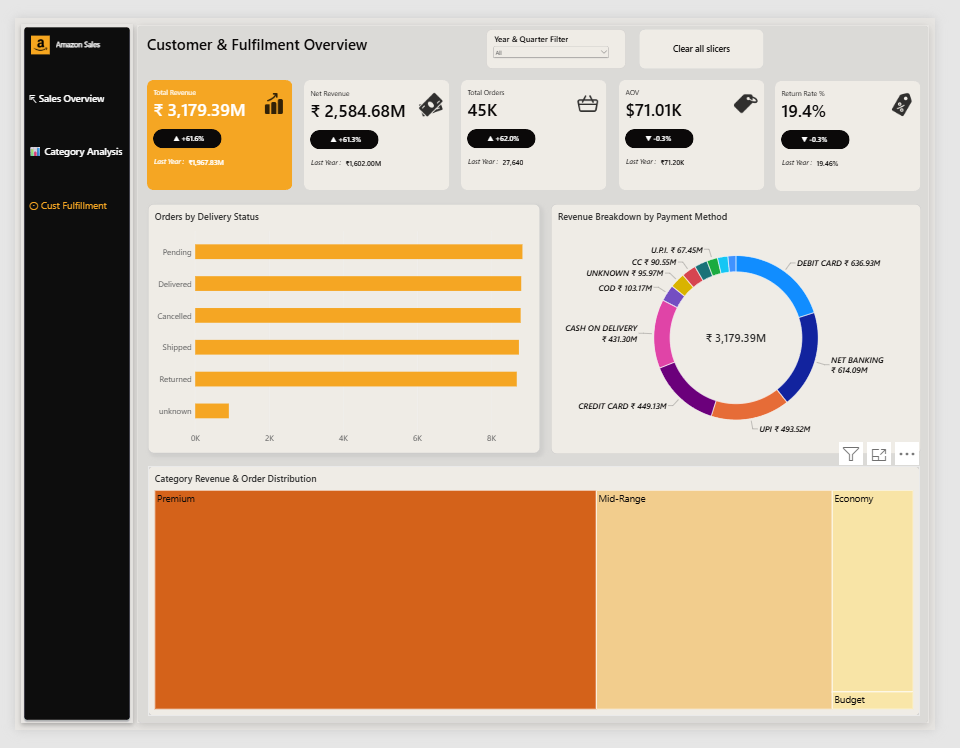

What the dashboard file says about the page in this screenshot:
{"tool":"powerbi","page":{"name":"⊙ Cust Fulfillment","canvas":[2300,1780],"ordinal":2},"visuals":[{"type":"shape","box":[15,15,280,1747.5],"z":0},{"type":"shape","box":[724,155.4,363.3,275.3],"z":0,"group":"g2"},{"type":"shape","box":[1510.1,155.4,363.3,275],"z":0,"group":"g9"},{"type":"group","id":"g1","title":"Group 2","box":[330.9,155.5,363.3,275],"z":0,"group":"g16"},{"type":"shape","box":[330.9,155.5,363.3,275],"z":0,"group":"g1"},{"type":"shape","box":[1117.1,156.2,363.3,275],"z":0,"group":"g3"},{"type":"shape","box":[1901.9,157,363.3,275],"z":0,"group":"g15"},{"type":"shape","box":[1525.5,275.7,171.7,48.3],"z":0,"group":"g4"},{"type":"shape","box":[346.3,275.8,171.7,48.3],"z":0,"group":"g5"},{"type":"shape","box":[1132.5,276.5,171.7,48.3],"z":0,"group":"g6"},{"type":"shape","box":[1917.3,277.3,171.7,48.3],"z":0,"group":"g7"},{"type":"shape","box":[739.4,279,171.7,48.3],"z":0,"group":"g8"},{"type":"shape","box":[1526.4,341.4,163,37],"z":0,"group":"g10"},{"type":"shape","box":[347.2,341.5,163,37],"z":0,"group":"g11"},{"type":"shape","box":[1133.4,342.2,163,37],"z":0,"group":"g12"},{"type":"shape","box":[1918.2,343,163,37],"z":0,"group":"g13"},{"type":"shape","box":[740.3,344.7,163,37],"z":0,"group":"g14"},{"type":"image","box":[40,40,46.7,55],"z":1000},{"type":"group","id":"g2","title":"Group 2","box":[724,155.4,363.3,275.3],"z":1000,"group":"g16"},{"type":"cardVisual","fields":{"Data":["Key_Measures.AOV"]},"box":[1510.1,155.4,363.3,120],"z":1000,"group":"g9"},{"type":"cardVisual","fields":{"Data":["Key_Measures.Total Revenue"]},"box":[330.9,155.5,363.3,120],"z":1000,"group":"g1"},{"type":"cardVisual","fields":{"Data":["Key_Measures.Total Orders"]},"box":[1117.1,156.2,363.3,120],"z":1000,"group":"g3"},{"type":"cardVisual","fields":{"Data":["Key_Measures.Return Rate %"]},"box":[1901.9,157,363.3,120],"z":1000,"group":"g15"},{"type":"cardVisual","fields":{"Data":["Key_Measures.Net Revenue"]},"box":[724,158.7,363.3,120],"z":1000,"group":"g2"},{"type":"cardVisual","fields":{"Data":["Key_Measures.AOV YoY % Label"]},"box":[1559.3,274.5,138.3,48.3],"z":1000,"group":"g4"},{"type":"cardVisual","fields":{"Data":["Key_Measures.Sales YoY % Label"]},"box":[380.1,274.6,138.3,48.3],"z":1000,"group":"g5"},{"type":"cardVisual","fields":{"Data":["Key_Measures.Orders YoY % Label"]},"box":[1166.3,275.3,138.3,48.3],"z":1000,"group":"g6"},{"type":"cardVisual","fields":{"Data":["Key_Measures.Return Rate YoY % Label"]},"box":[1951.1,276.1,138.3,48.3],"z":1000,"group":"g7"},{"type":"cardVisual","fields":{"Data":["Key_Measures.Net Revenue YoY % Label"]},"box":[773.2,277.8,138.3,48.3],"z":1000,"group":"g8"},{"type":"cardVisual","fields":{"Data":["Key_Measures.AOV PY Clean"]},"box":[1597.2,335.4,216.7,48.3],"z":1000,"group":"g10"},{"type":"cardVisual","fields":{"Data":["Key_Measures.Last Year Label"]},"box":[418,335.5,216.7,48.3],"z":1000,"group":"g11"},{"type":"cardVisual","fields":{"Data":["Key_Measures.Orders PY Clean"]},"box":[1204.2,336.2,216.7,48.3],"z":1000,"group":"g12"},{"type":"cardVisual","fields":{"Data":["Key_Measures.Return Rate PY Clean"]},"box":[1989,337,216.7,48.3],"z":1000,"group":"g13"},{"type":"cardVisual","fields":{"Data":["Key_Measures.Net Revenue PY Clean"]},"box":[811.1,338.7,216.7,48.3],"z":1000,"group":"g14"},{"type":"textbox","box":[101.4,52.8,180,51.7],"z":2000},{"type":"group","id":"g3","title":"Group 2","box":[1117.1,156.2,363.3,275],"z":2000,"group":"g16"},{"type":"group","id":"g4","title":"YOY_Label","box":[1525.5,274.5,172.1,49.6],"z":2000,"group":"g9"},{"type":"group","id":"g5","title":"YOY_Label","box":[346.3,274.6,172.1,49.6],"z":2000,"group":"g1"},{"type":"group","id":"g6","title":"YOY_Label","box":[1132.5,275.3,172.1,49.6],"z":2000,"group":"g3"},{"type":"group","id":"g7","title":"YOY_Label","box":[1917.3,276.1,172.1,49.6],"z":2000,"group":"g15"},{"type":"group","id":"g8","title":"YOY_Label","box":[739.4,277.8,172.1,49.6],"z":2000,"group":"g2"},{"type":"shape","box":[305,17.5,1980,1745],"z":3000},{"type":"group","id":"g9","title":"Group 2","box":[1510.1,155.4,362,276],"z":3000,"group":"g16"},{"type":"group","id":"g10","title":"LY_label","box":[1526.4,335.4,287.4,48.3],"z":3000,"group":"g9"},{"type":"group","id":"g11","title":"LY_label","box":[347.2,335.5,287.4,48.3],"z":3000,"group":"g1"},{"type":"group","id":"g12","title":"LY_label","box":[1133.4,336.2,287.4,48.3],"z":3000,"group":"g3"},{"type":"group","id":"g13","title":"LY_label","box":[1918.2,337,287.4,48.3],"z":3000,"group":"g15"},{"type":"group","id":"g14","title":"LY_label","box":[740.3,338.7,287.4,48.3],"z":3000,"group":"g2"},{"type":"textbox","box":[330,40,1070,62.5],"z":4000},{"type":"group","id":"g15","title":"Group 2","box":[1901.9,157,362,276],"z":4000,"group":"g16"},{"type":"group","id":"g16","title":"KPI_Cards","box":[330.9,155.4,1933,277.6],"z":5000},{"type":"clusteredBarChart","title":"Orders by Delivery Status","fields":{"Category":["fact_amazon_sales.delivery_status"],"Y":["Key_Measures.Total Orders"]},"box":[332.5,465,980,622.5],"z":6000},{"type":"group","id":"g17","title":"Year_Filter","box":[1177.1,28.6,350,307.1],"z":7000},{"type":"shape","box":[1177.1,28.6,350,100],"z":8000,"group":"g17"},{"type":"donutChart","title":"Revenue Breakdown by Payment Method","fields":{"Category":["fact_amazon_sales.payment_method"],"Y":["Key_Measures.Total Revenue"]},"box":[1340,465,925,625],"z":8000},{"type":"slicer","fields":{"Values":["dim_date.order_year","dim_date.quarter_of_year"]},"box":[1189.6,37.8,300,300],"z":8500,"group":"g17"},{"type":"treemap","title":"Category Revenue & Order Distribution","fields":{"Group":["fact_amazon_sales.price_category"],"Values":["Key_Measures.Total Orders"]},"box":[332.5,1120,1930,625],"z":10000},{"type":"actionButton","box":[1560,27.5,312,100],"z":11000},{"type":"pageNavigator","box":[22.5,137.5,340,395],"z":11001}]}

Visuals, with their boxes on the page's 2300x1780 design canvas (x1, y1, x2, y2). These are canvas units, not pixel positions in the 960x748 screenshot, which may show the page scaled, cropped or inside an application window:
shape: locate(15, 15, 295, 1762)
shape: locate(724, 155, 1087, 431)
shape: locate(1510, 155, 1873, 430)
"Group 2" group: locate(331, 156, 694, 430)
shape: locate(331, 156, 694, 430)
shape: locate(1117, 156, 1480, 431)
shape: locate(1902, 157, 2265, 432)
shape: locate(1526, 276, 1697, 324)
shape: locate(346, 276, 518, 324)
shape: locate(1132, 276, 1304, 325)
shape: locate(1917, 277, 2089, 326)
shape: locate(739, 279, 911, 327)
shape: locate(1526, 341, 1689, 378)
shape: locate(347, 342, 510, 378)
shape: locate(1133, 342, 1296, 379)
shape: locate(1918, 343, 2081, 380)
shape: locate(740, 345, 903, 382)
image: locate(40, 40, 87, 95)
"Group 2" group: locate(724, 155, 1087, 431)
cardVisual - Key_Measures.AOV: locate(1510, 155, 1873, 275)
cardVisual - Key_Measures.Total Revenue: locate(331, 156, 694, 276)
cardVisual - Key_Measures.Total Orders: locate(1117, 156, 1480, 276)
cardVisual - Key_Measures.Return Rate %: locate(1902, 157, 2265, 277)
cardVisual - Key_Measures.Net Revenue: locate(724, 159, 1087, 279)
cardVisual - Key_Measures.AOV YoY % Label: locate(1559, 274, 1698, 323)
cardVisual - Key_Measures.Sales YoY % Label: locate(380, 275, 518, 323)
cardVisual - Key_Measures.Orders YoY % Label: locate(1166, 275, 1305, 324)
cardVisual - Key_Measures.Return Rate YoY % Label: locate(1951, 276, 2089, 324)
cardVisual - Key_Measures.Net Revenue YoY % Label: locate(773, 278, 912, 326)
cardVisual - Key_Measures.AOV PY Clean: locate(1597, 335, 1814, 384)
cardVisual - Key_Measures.Last Year Label: locate(418, 336, 635, 384)
cardVisual - Key_Measures.Orders PY Clean: locate(1204, 336, 1421, 384)
cardVisual - Key_Measures.Return Rate PY Clean: locate(1989, 337, 2206, 385)
cardVisual - Key_Measures.Net Revenue PY Clean: locate(811, 339, 1028, 387)
textbox: locate(101, 53, 281, 104)
"Group 2" group: locate(1117, 156, 1480, 431)
"YOY_Label" group: locate(1526, 274, 1698, 324)
"YOY_Label" group: locate(346, 275, 518, 324)
"YOY_Label" group: locate(1132, 275, 1305, 325)
"YOY_Label" group: locate(1917, 276, 2089, 326)
"YOY_Label" group: locate(739, 278, 912, 327)
shape: locate(305, 18, 2285, 1762)
"Group 2" group: locate(1510, 155, 1872, 431)
"LY_label" group: locate(1526, 335, 1814, 384)
"LY_label" group: locate(347, 336, 635, 384)
"LY_label" group: locate(1133, 336, 1421, 384)
"LY_label" group: locate(1918, 337, 2206, 385)
"LY_label" group: locate(740, 339, 1028, 387)
textbox: locate(330, 40, 1400, 102)
"Group 2" group: locate(1902, 157, 2264, 433)
"KPI_Cards" group: locate(331, 155, 2264, 433)
"Orders by Delivery Status" clusteredBarChart: locate(332, 465, 1312, 1088)
"Year_Filter" group: locate(1177, 29, 1527, 336)
shape: locate(1177, 29, 1527, 129)
"Revenue Breakdown by Payment Method" donutChart: locate(1340, 465, 2265, 1090)
slicer - dim_date.order_year x dim_date.quarter_of_year: locate(1190, 38, 1490, 338)
"Category Revenue & Order Distribution" treemap: locate(332, 1120, 2262, 1745)
actionButton: locate(1560, 28, 1872, 128)
pageNavigator: locate(22, 138, 362, 532)
